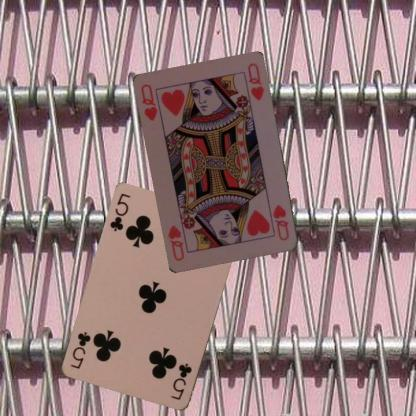5c: (168, 360, 194, 402), (107, 191, 132, 233)
Qh: (270, 202, 290, 242), (139, 82, 159, 122)
